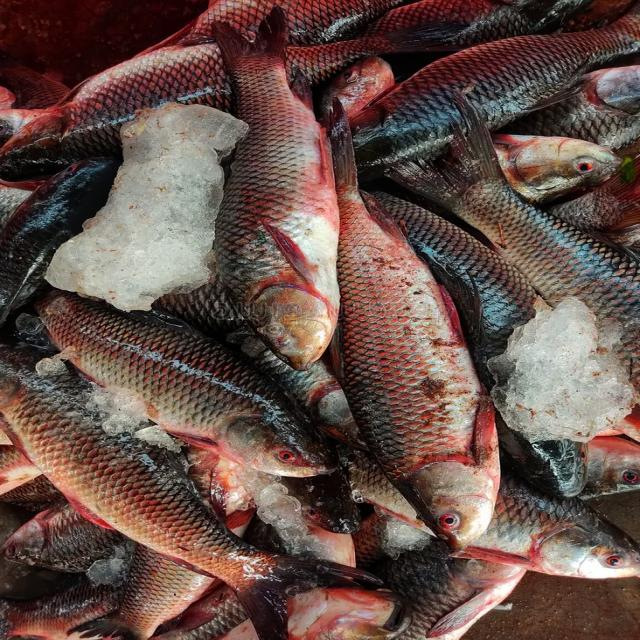Rohu: (330, 93, 502, 551)
